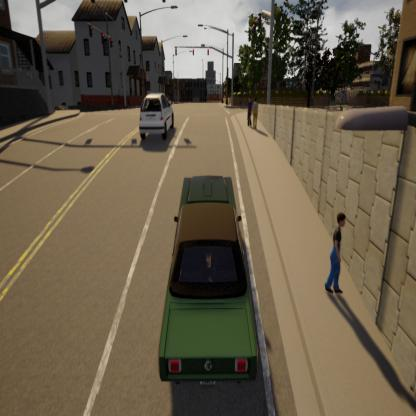Cars: (146, 169, 268, 416), (132, 76, 190, 160)
Pedestrian: (322, 171, 345, 333), (239, 90, 264, 136)
